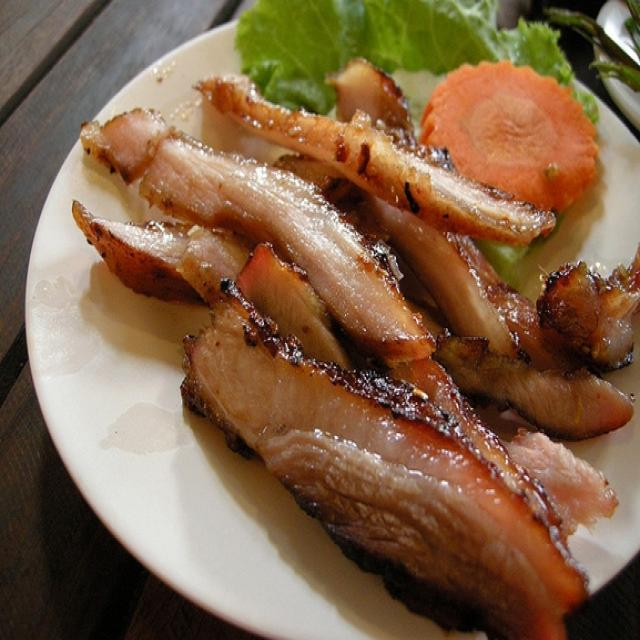猪肉菜式: (38, 21, 631, 602)
